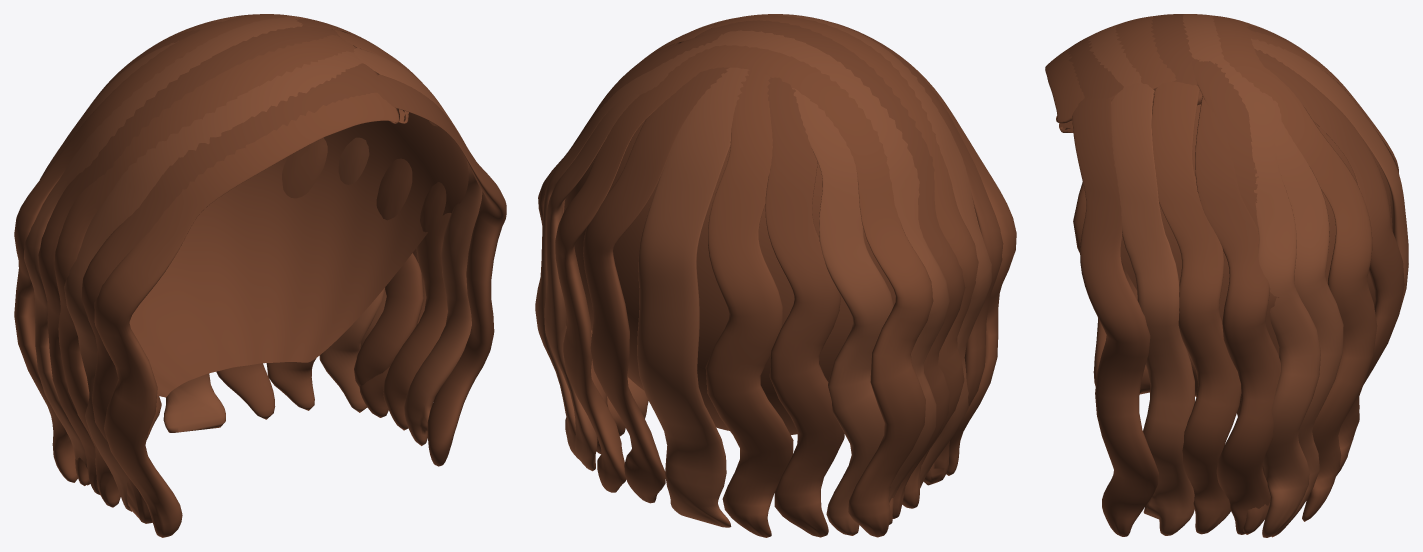
Rendered from Feminine-Feminine-curls-cap261-hair-346cf7ad.glb.
3 views of the same model, side by side, from view 1: azimuth 30°, elevation 25°; view 2: azimuth 150°, elevation 25°; view 3: azimuth 270°, elevation 25° (orthographic).
Visible parts, largest first — view 1: 226 hair / Hair / sculpted 0.001, 226 hair / Hair / sculpted 1.001, 226 hair / Hair / sculpted 1.002, 226 hair / Hair / sculpted 2.001; view 2: 226 hair / Hair / sculpted 0.001, 226 hair / Hair / sculpted 2.001, 226 hair / Hair / sculpted 1.002, 226 hair / Hair / sculpted 1.001; view 3: 226 hair / Hair / sculpted 1.002, 226 hair / Hair / sculpted 2.001, 226 hair / Hair / sculpted 0.001, 226 hair / Hair / sculpted 1.001.
Boxes of the visible parts, <box> form: 226 hair / Hair / sculpted 0.001: <box>14,14,451,537</box>; 226 hair / Hair / sculpted 1.001: <box>129,34,468,397</box>; 226 hair / Hair / sculpted 1.002: <box>38,14,506,523</box>; 226 hair / Hair / sculpted 2.001: <box>24,16,482,511</box>; 226 hair / Hair / sculpted 0.001: <box>555,15,1016,537</box>; 226 hair / Hair / sculpted 2.001: <box>535,14,991,535</box>; 226 hair / Hair / sculpted 1.002: <box>538,14,1003,537</box>; 226 hair / Hair / sculpted 1.001: <box>564,43,895,434</box>; 226 hair / Hair / sculpted 1.002: <box>1067,14,1404,536</box>; 226 hair / Hair / sculpted 2.001: <box>1088,14,1408,537</box>; 226 hair / Hair / sculpted 0.001: <box>1045,15,1398,534</box>; 226 hair / Hair / sculpted 1.001: <box>1120,72,1392,416</box>.
Bounding box in the file's own units: 1.08 × 1.12 × 0.8387.
